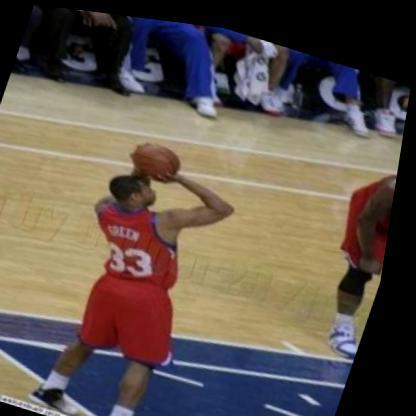basketball: (135, 132, 188, 181)
